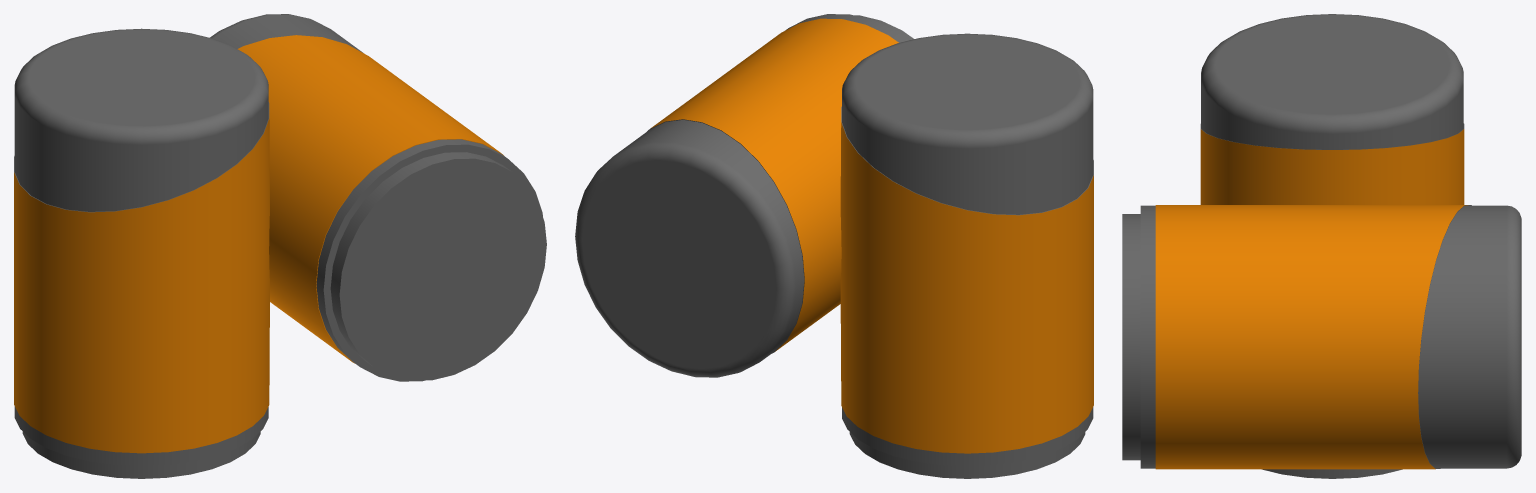
The picture shows the model from 3 angles, left to right: view 1: azimuth 30°, elevation 25°; view 2: azimuth 150°, elevation 25°; view 3: azimuth 270°, elevation 25°; orthographic projection. The views are drawn at different scales.
Visible parts, largest first — view 1: NONE; view 2: NONE; view 3: NONE.
Boxes of the visible parts, x1,y1,x2,y2 form: NONE: (14,14,546,478); NONE: (575,14,1093,478); NONE: (1122,14,1521,478).
Size of the model in its own units: 0.169 by 0.134 by 0.134.
